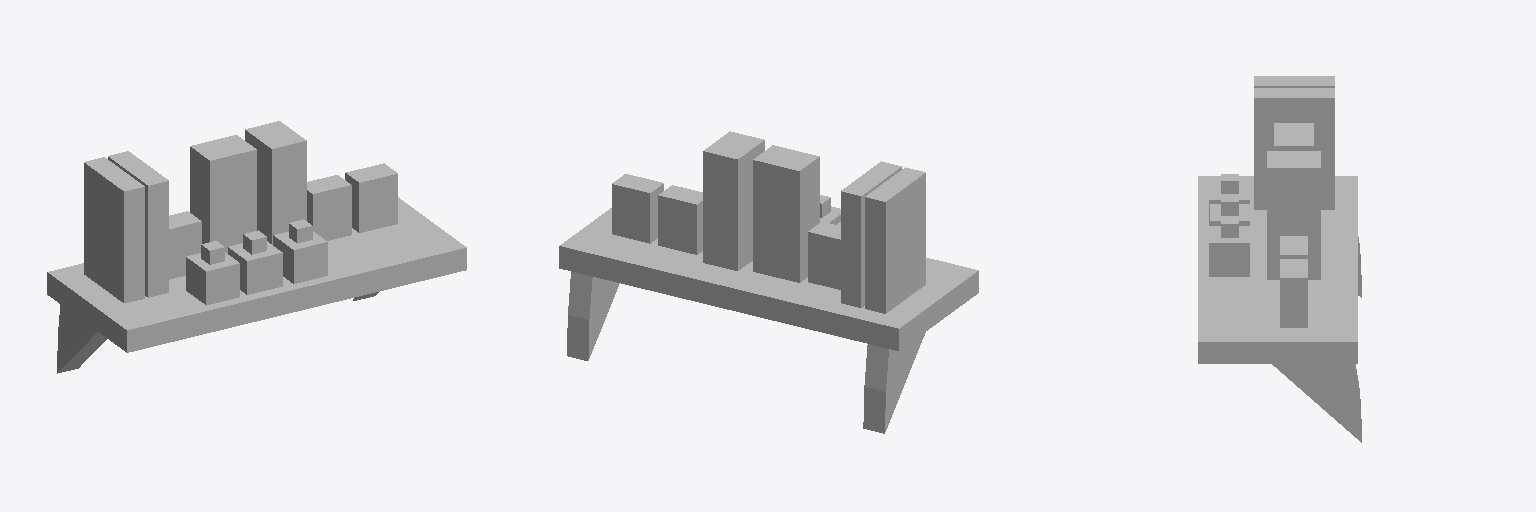
The model's file is shelf1.obj.
3 renders of one model, left to right at view 1: azimuth 30°, elevation 25°; view 2: azimuth 150°, elevation 25°; view 3: azimuth 270°, elevation 25°, orthographic.
Parts seen in each view (by area): view 1: Box007; view 2: Box007; view 3: Box007.
Part boxes in pixels (x1,y1,x2,y2): Box007: (47,121,466,373); Box007: (559,131,978,433); Box007: (1198,76,1361,442).
Size of the model in its own units: 67.36 by 41.41 by 28.2.